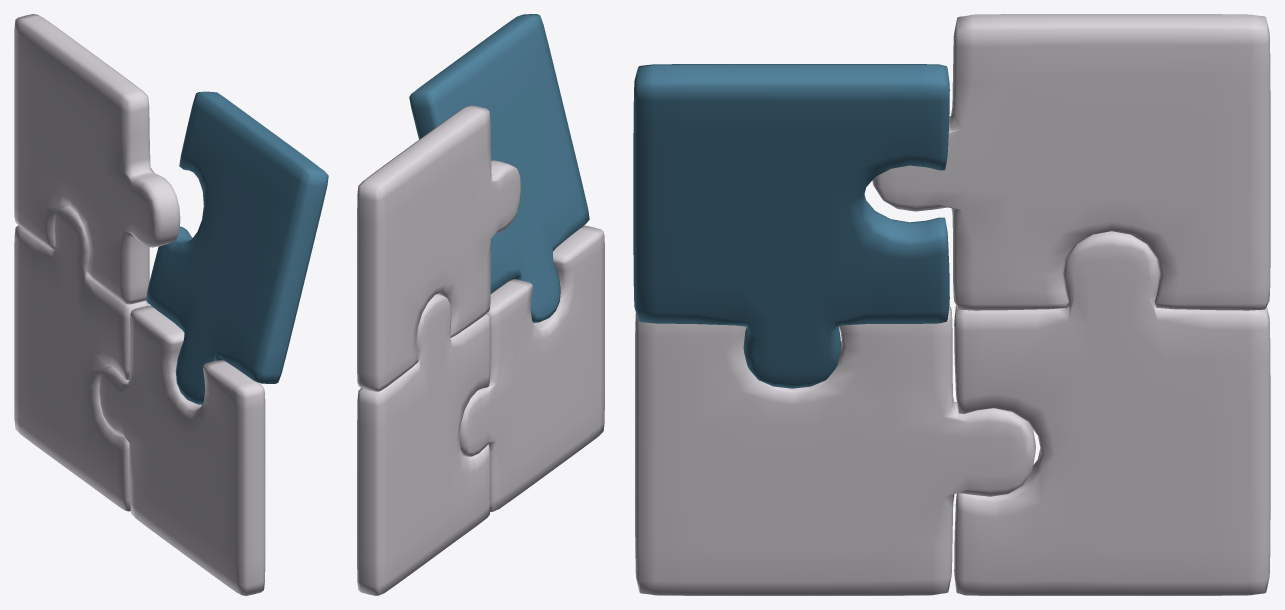
File: Puzzel.gltf
3 views of the same model, side by side, from view 1: azimuth 30°, elevation 25°; view 2: azimuth 150°, elevation 25°; view 3: azimuth 270°, elevation 25° (orthographic). The views are drawn at different scales.
Visible parts, largest first — view 1: Puzzelstueck.001; view 2: Puzzelstueck.001; view 3: Puzzelstueck.001.
Boxes of the visible parts, <box> form: Puzzelstueck.001: <box>14,14,328,595</box>; Puzzelstueck.001: <box>357,14,604,595</box>; Puzzelstueck.001: <box>633,14,1270,595</box>.
Size of the model in its own units: 0.0178 by 0.0798 by 0.0804.
